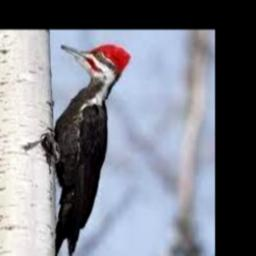Woodpecker: (45, 45, 131, 256)
